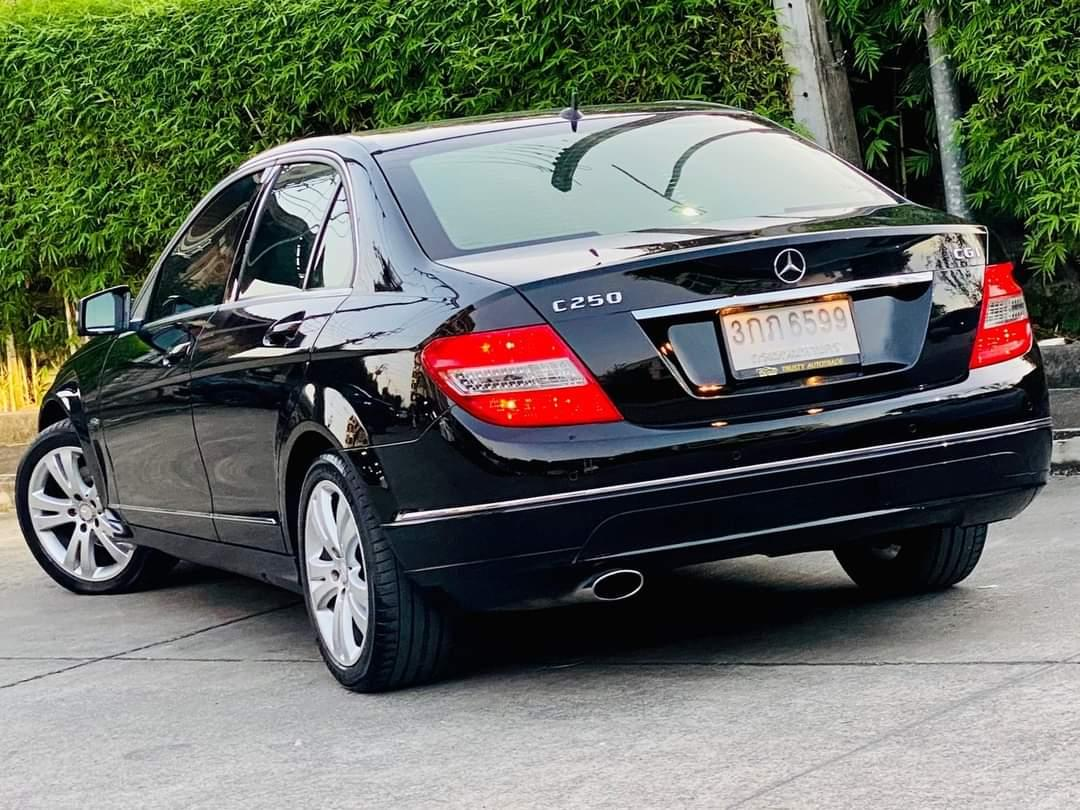license-plate: (716, 295, 863, 388)
